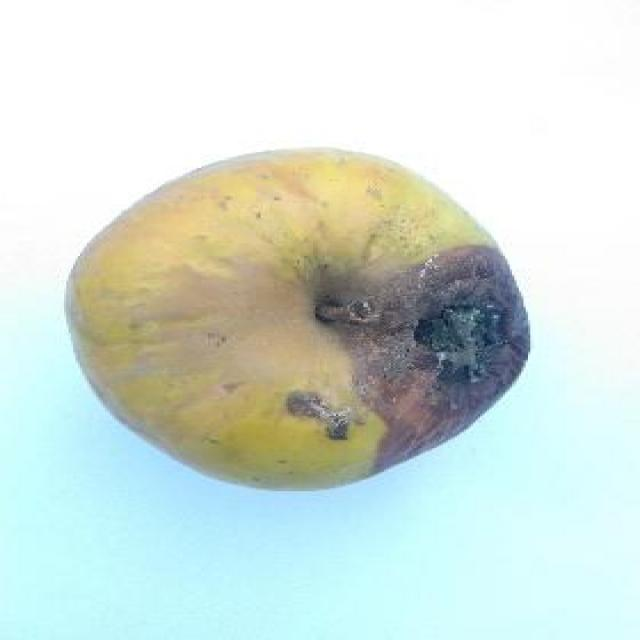Rotten: (43, 146, 531, 482)
